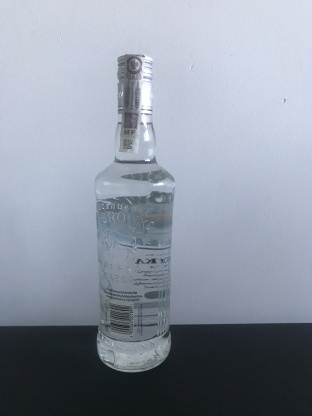nakretka: (114, 50, 156, 118)
